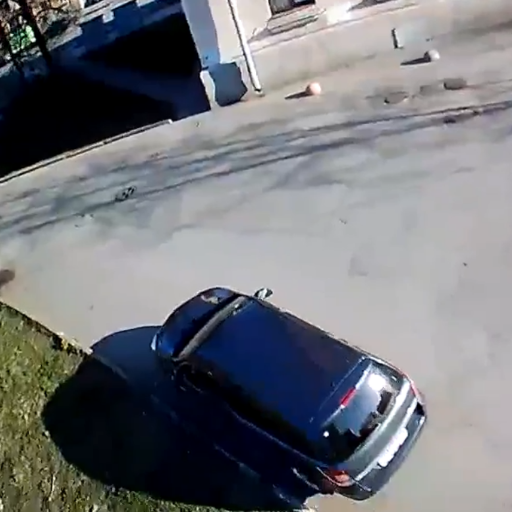Car: (150, 284, 424, 502)
